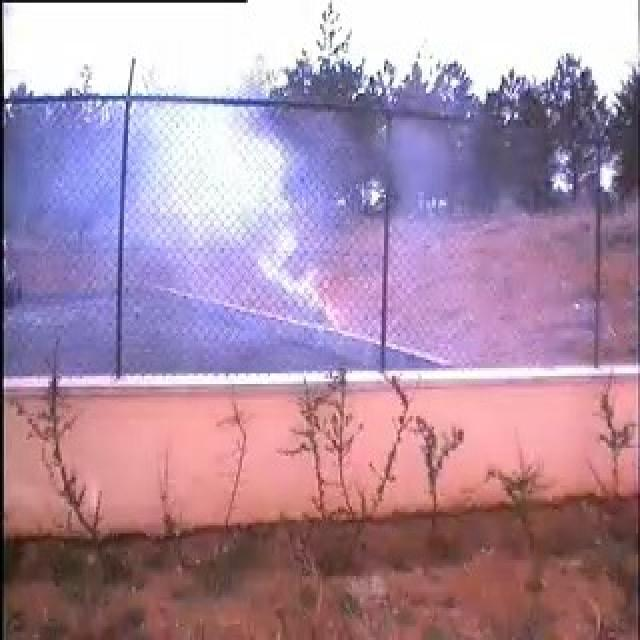smoke: (73, 98, 353, 365)
